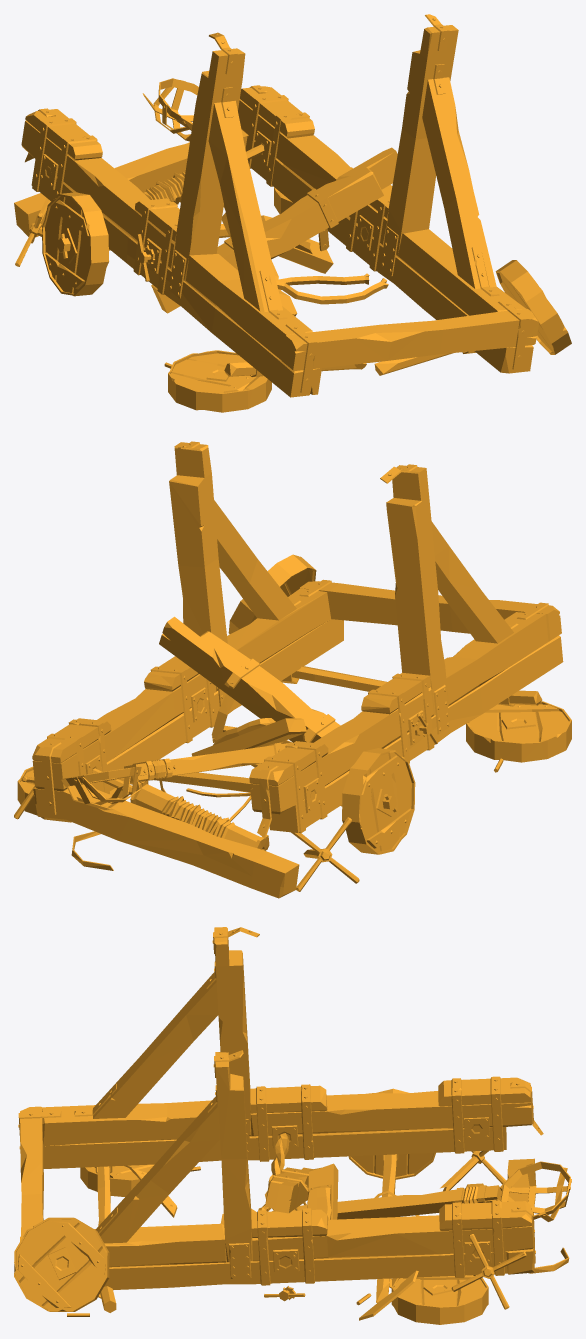
Rendered from SM_Catapult_Broken.fbx.
3 renders of one model, top to bottom at view 1: azimuth 30°, elevation 25°; view 2: azimuth 150°, elevation 25°; view 3: azimuth 270°, elevation 25°, orthographic. The views are drawn at different scales.
Visible parts, largest first — view 1: catapult-broken; view 2: catapult-broken; view 3: catapult-broken.
Boxes of the visible parts, x1,y1,x2,y2 form: catapult-broken: (14,14,571,412); catapult-broken: (14,441,571,898); catapult-broken: (14,927,571,1324).
Bounding box in the file's own units: 3.11 × 2.53 × 4.44.
